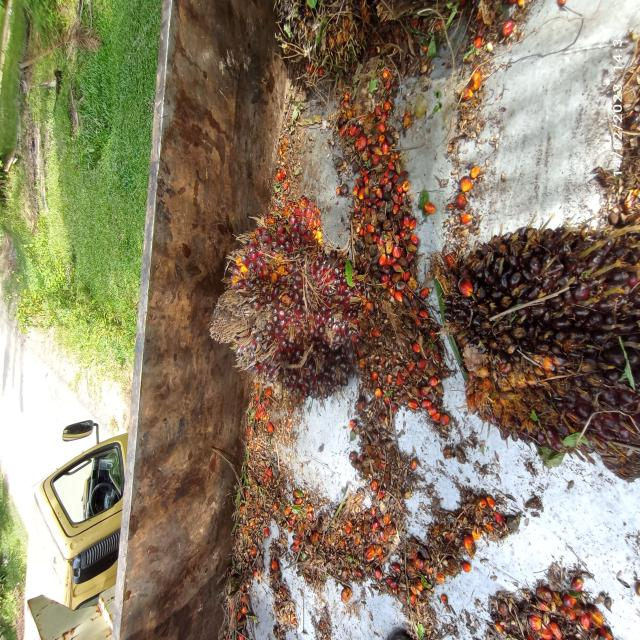fraksi 00: (436, 186, 640, 493)
fraksi 1: (196, 181, 377, 406)
